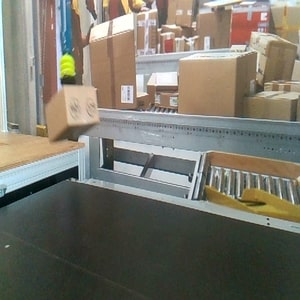box: (44, 84, 101, 144)
